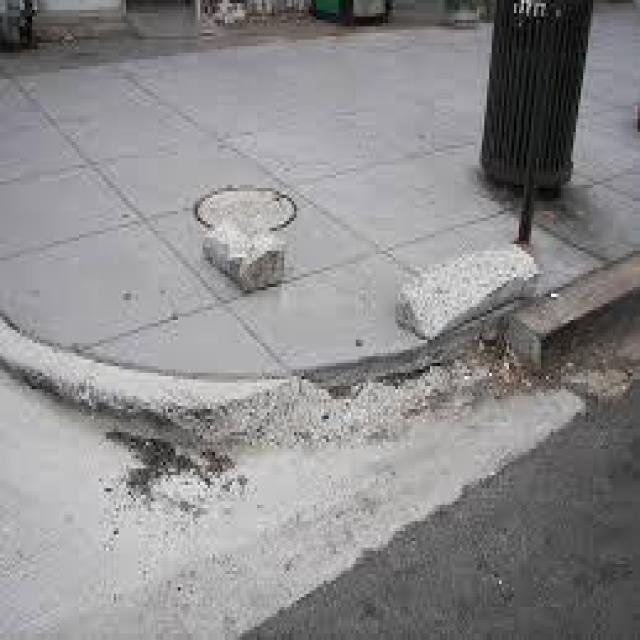curb: (82, 354, 410, 453), (499, 257, 635, 387)
